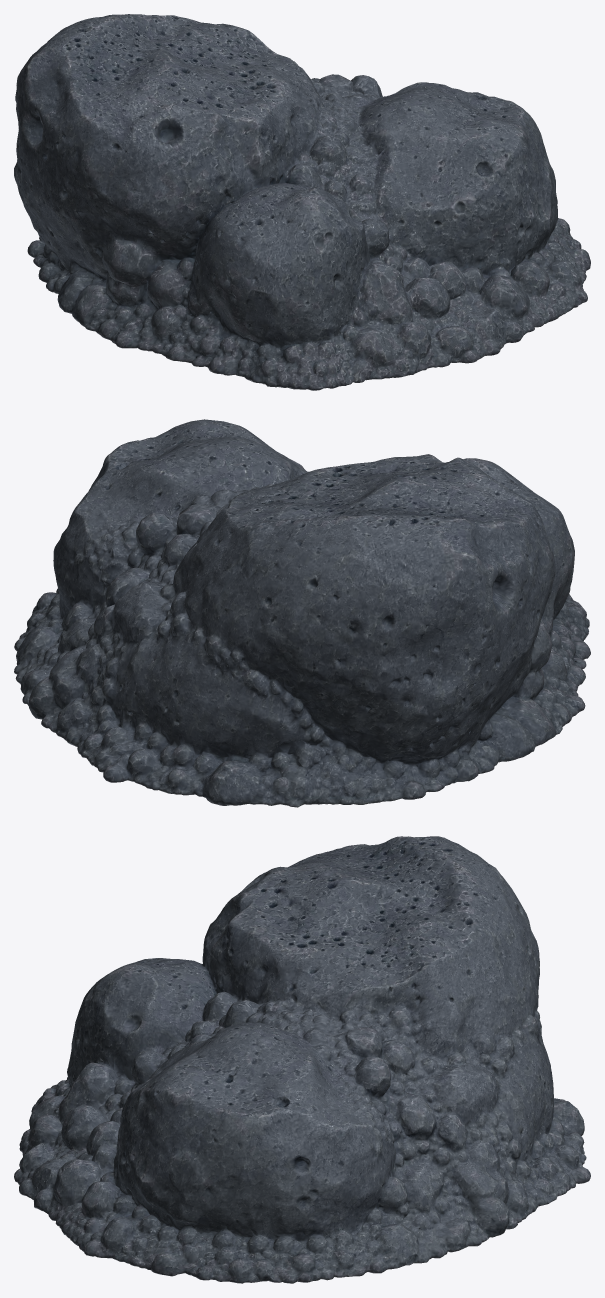
Rendered from prop-boulder-cluster.glb.
3 renders of one model, top to bottom at view 1: azimuth 30°, elevation 25°; view 2: azimuth 150°, elevation 25°; view 3: azimuth 270°, elevation 25°, orthographic. The views are drawn at different scales.
Size of the model in its own units: 1.85 by 0.8638 by 1.9.
Materials: 1 (1 with a texture image).
